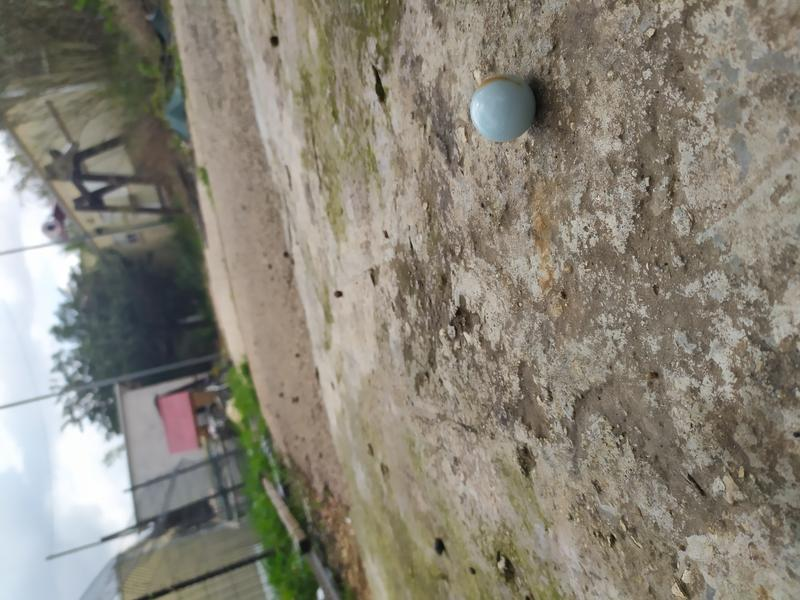Warning: (468, 71, 539, 145)
